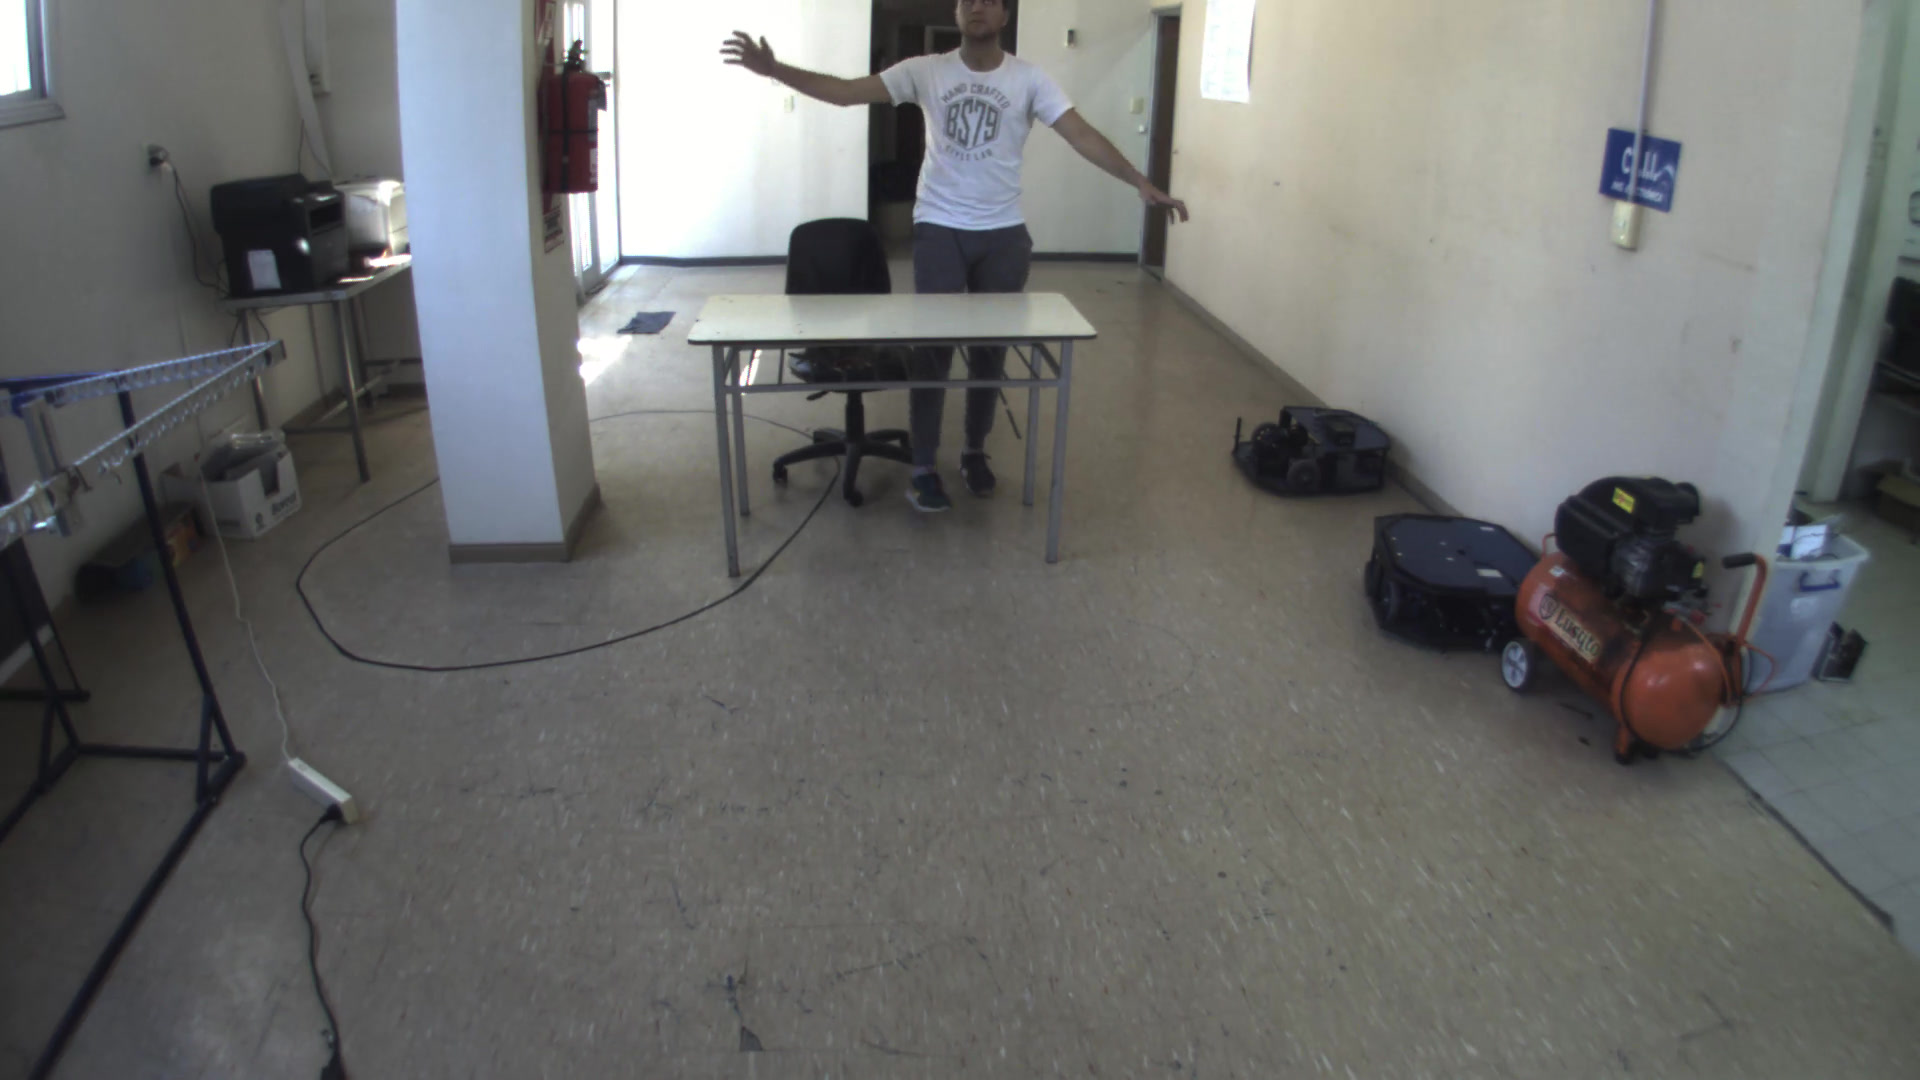hand: (1125, 167, 1203, 233), (716, 22, 789, 92)
